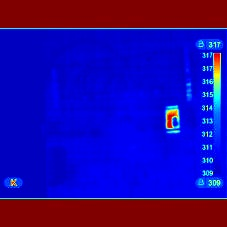Medium: (151, 99, 194, 142)
